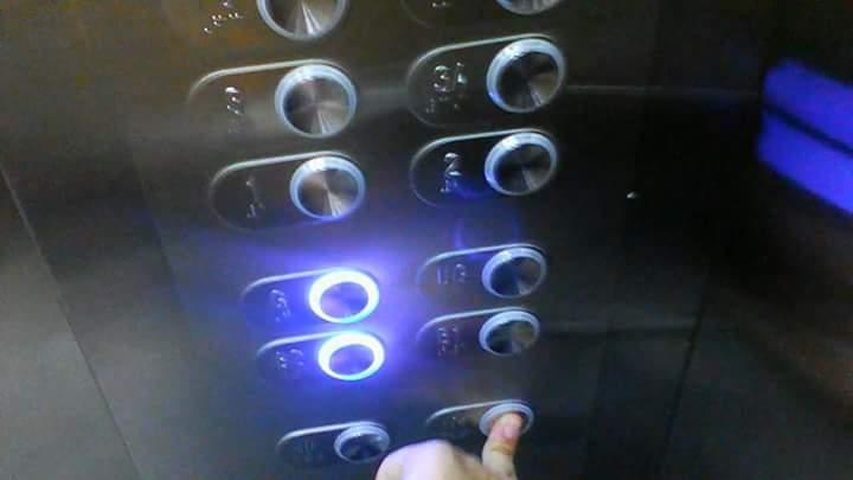1: (209, 151, 367, 235)
2: (406, 126, 561, 210)
3: (188, 55, 359, 150)
3A: (402, 32, 569, 127)
B1: (413, 308, 542, 361)
B2: (254, 330, 388, 385)
G: (234, 265, 380, 333)
LG: (414, 243, 552, 305)
close: (421, 396, 537, 447)
open: (274, 418, 390, 473)
